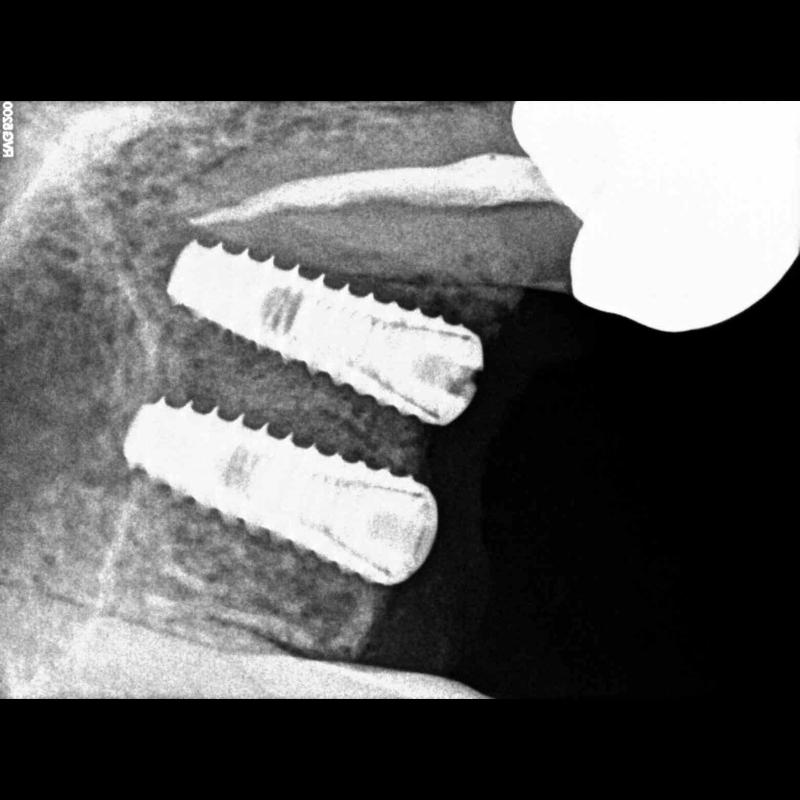Dentium: (120, 396, 450, 596), (169, 218, 485, 423)
